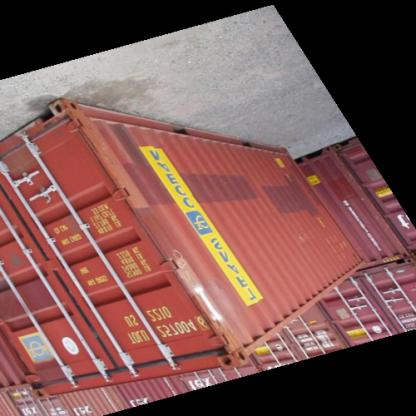Damage: (171, 256, 250, 372), (52, 99, 136, 200), (1, 118, 61, 164)
